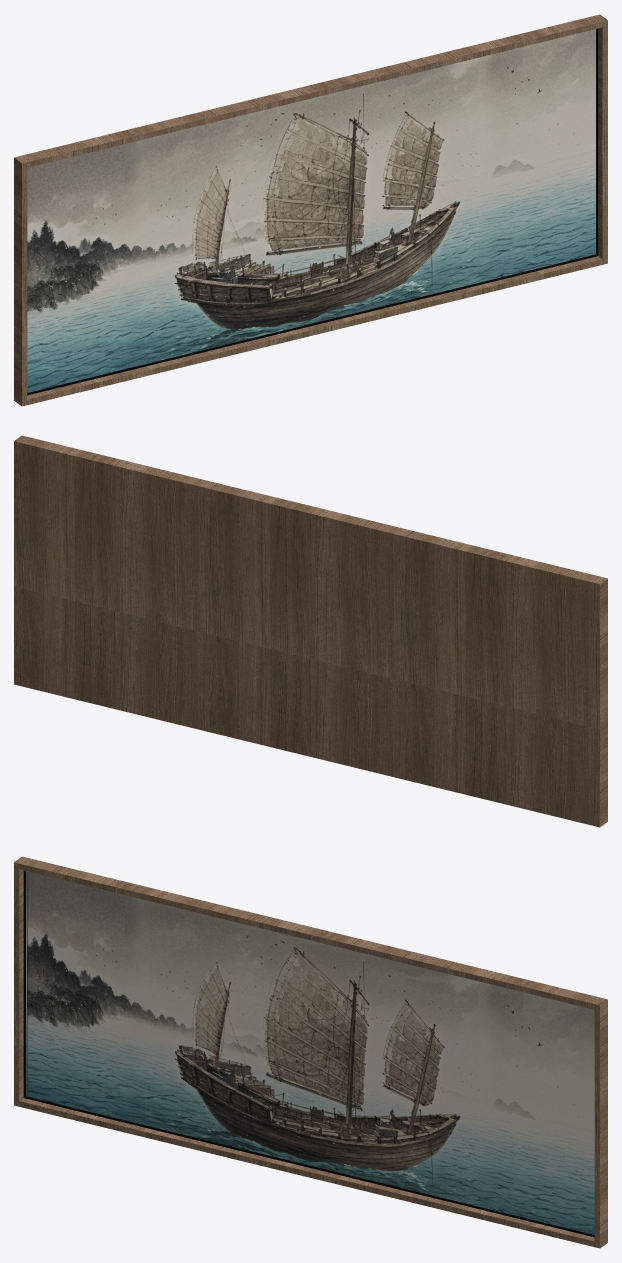
The picture shows the model from 3 angles, top to bottom: view 1: azimuth 30°, elevation 25°; view 2: azimuth 150°, elevation 25°; view 3: azimuth 330°, elevation 25°; orthographic projection.
Visible parts, largest first — view 1: SY-画照; view 2: SY-画照; view 3: SY-画照.
Boxes of the visible parts, left/top/right/bottom form: SY-画照: left=14, top=14, right=607, bottom=406; SY-画照: left=14, top=435, right=607, bottom=827; SY-画照: left=14, top=856, right=607, bottom=1248.
Size of the model in its own units: 2.2 by 0.0519 by 0.8714.
